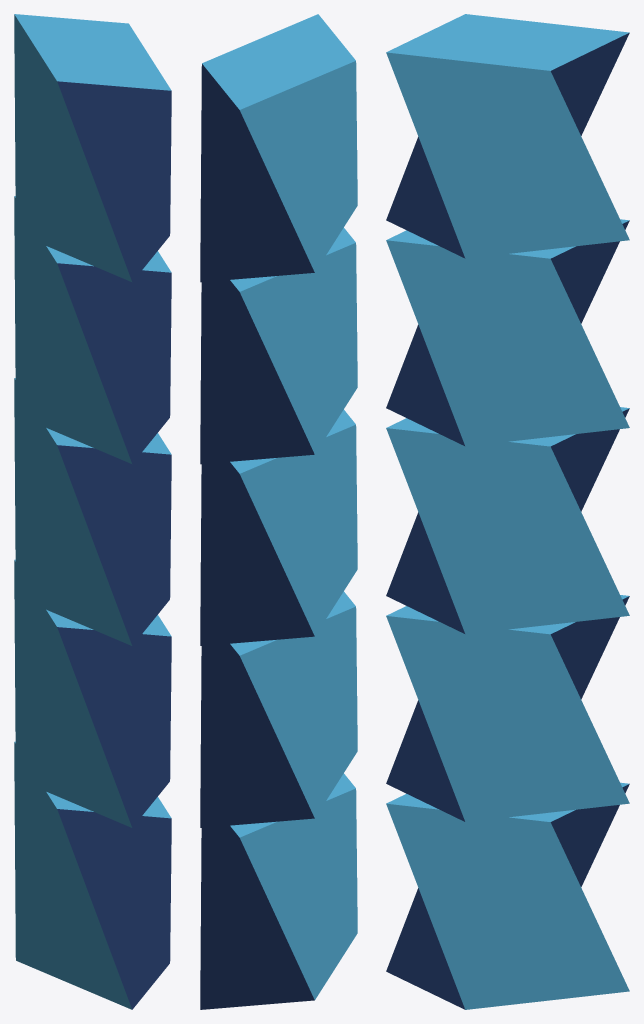
The model's file is waterBar 1.fbx.
3 renders of one model, left to right at view 1: azimuth 30°, elevation 25°; view 2: azimuth 150°, elevation 25°; view 3: azimuth 270°, elevation 25°, orthographic. The views are drawn at different scales.
Visible parts, largest first — view 1: Cube; view 2: Cube; view 3: Cube.
Part boxes in pixels (left/top/right/bottom): Cube: left=14, top=14, right=171, bottom=1009; Cube: left=200, top=14, right=357, bottom=1009; Cube: left=386, top=14, right=629, bottom=1009.
Size of the model in its own units: 237 by 1824 by 429.
